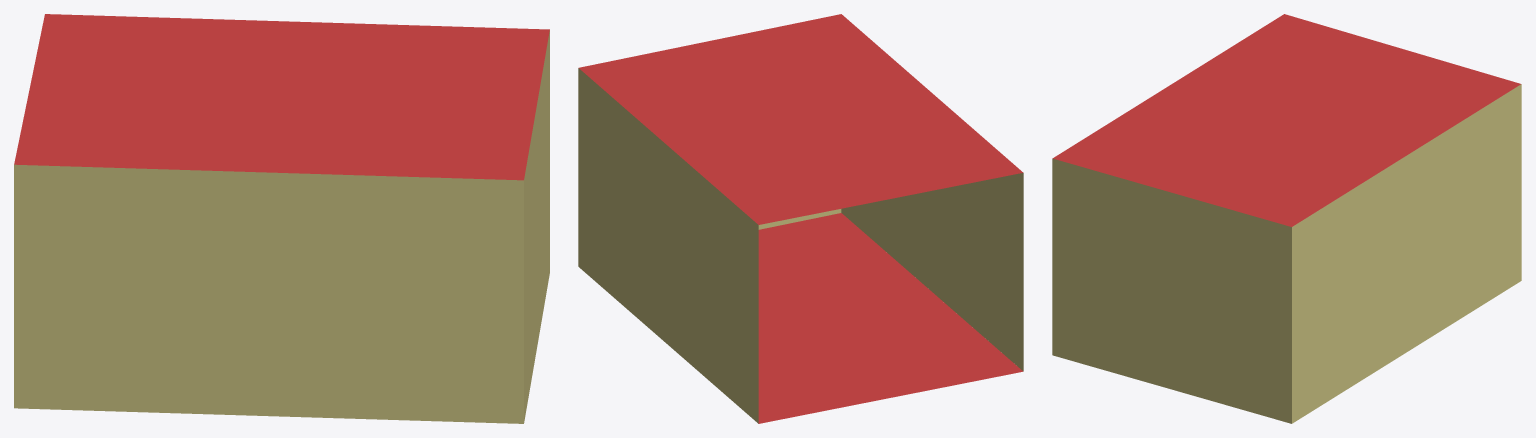
3 renders of one model, left to right at view 1: azimuth 30°, elevation 25°; view 2: azimuth 150°, elevation 25°; view 3: azimuth 270°, elevation 25°, orthographic. The views are drawn at different scales.
Parts seen in each view (by area): view 1: group_4, group_3; view 2: group_4, group_3, group_5; view 3: group_4, group_3.
Part boxes in pixels (x1,y1,x2,y2): group_4: (14, 30, 549, 423); group_3: (14, 14, 549, 180); group_4: (578, 68, 1023, 423); group_3: (579, 14, 1023, 224); group_5: (758, 213, 1022, 423); group_4: (1052, 84, 1521, 423); group_3: (1052, 14, 1520, 226).
Size of the model in its own units: 11.98 by 11.14 by 5.16.
